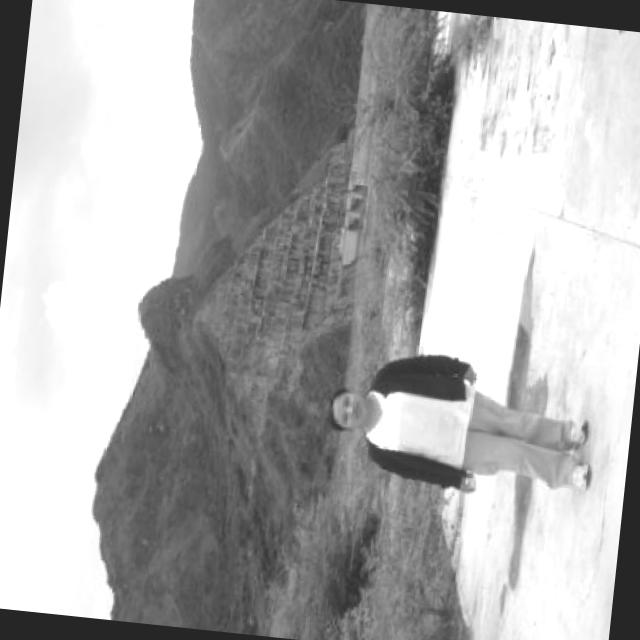Person: (333, 327, 578, 528)
